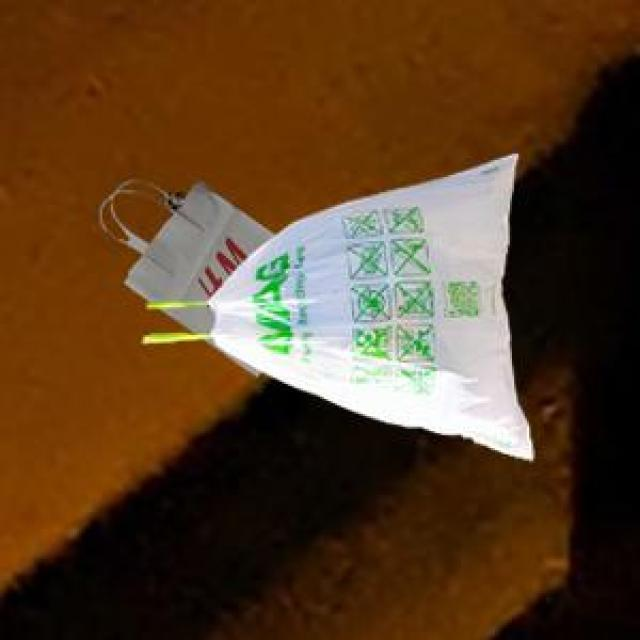paper: (120, 177, 271, 371)
